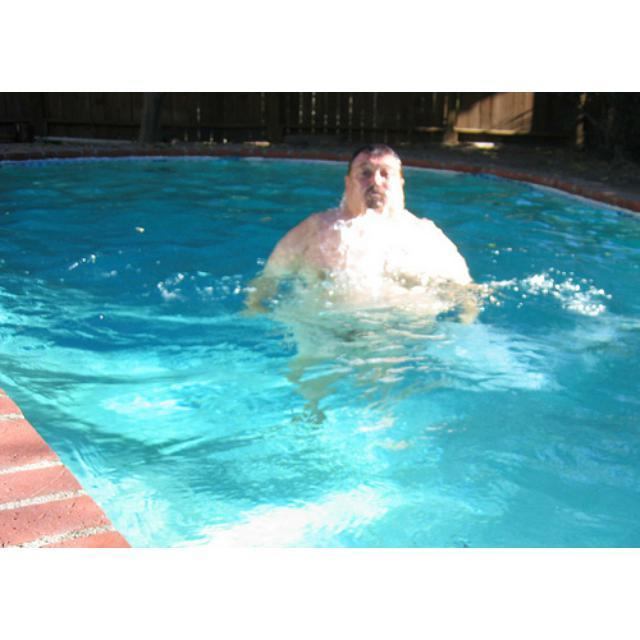human: (244, 140, 480, 326)
